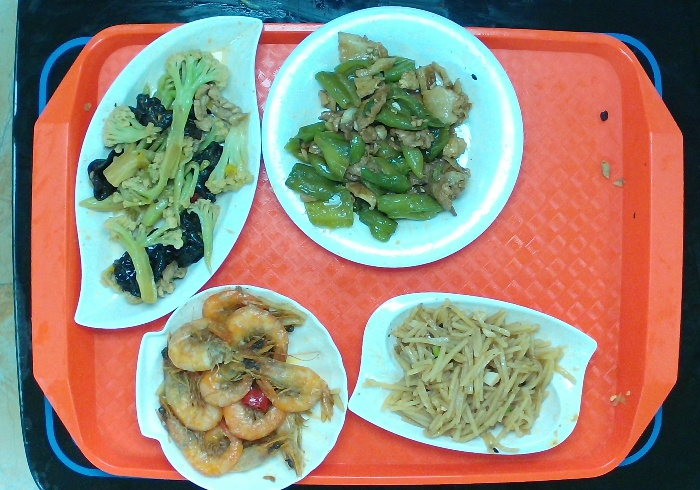RJxy-Bei_Ke_Wan: (125, 279, 352, 487)
RJxy-Jian_Jiao_Fang_Die: (342, 288, 604, 462)
RJxy-Jian_Jiao_Pan: (63, 10, 266, 336)
RJxy-Yuan_Pan: (262, 3, 527, 271)
